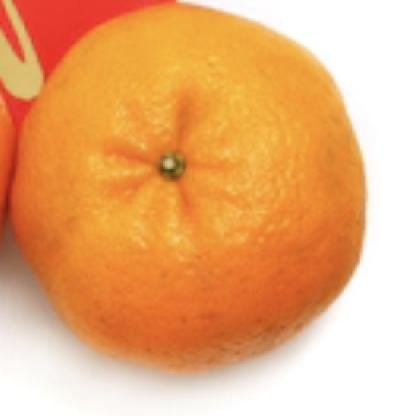fresh: (16, 7, 369, 366)
